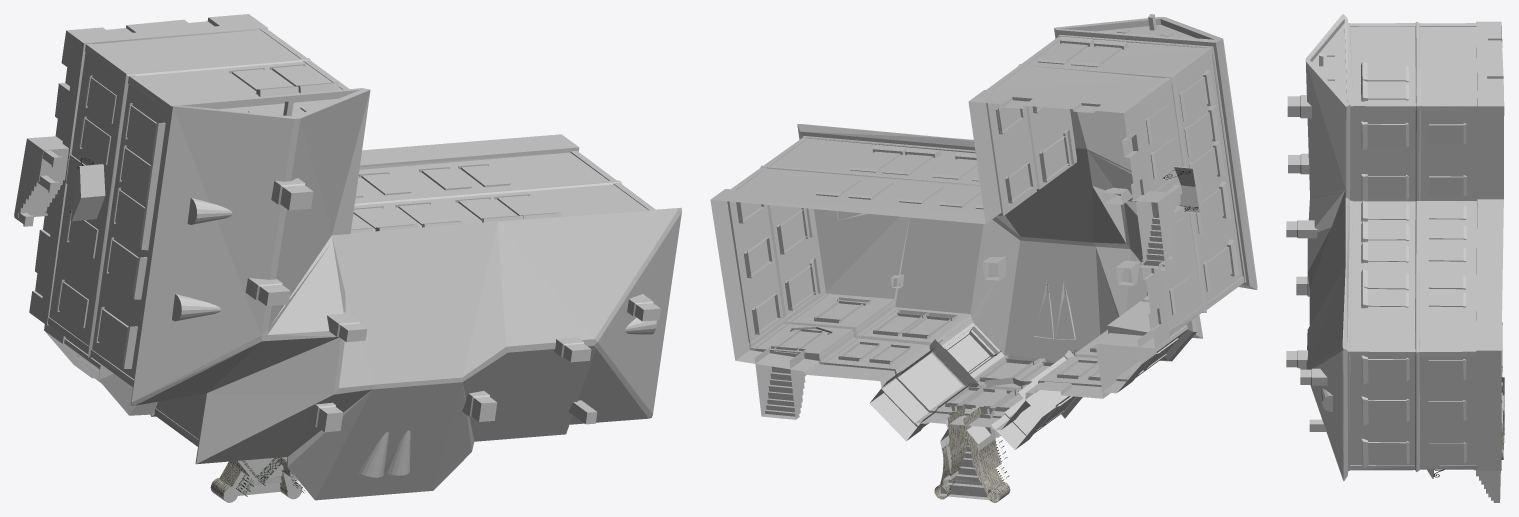
The model's file is Vana-Viru_15.obj.
3 renders of one model, left to right at view 1: azimuth 30°, elevation 25°; view 2: azimuth 150°, elevation 25°; view 3: azimuth 270°, elevation 25°, orthographic. The views are drawn at different scales.
Parts seen in each view (by area): view 1: Vana_Viru_tn_15; view 2: Vana_Viru_tn_15; view 3: Vana_Viru_tn_15.
Boxes of the visible parts, x1,y1,x2,y2 form: Vana_Viru_tn_15: [14, 14, 681, 502]; Vana_Viru_tn_15: [710, 14, 1257, 502]; Vana_Viru_tn_15: [1286, 14, 1504, 502].
Size of the model in its own units: 29.95 by 26.93 by 14.47.
